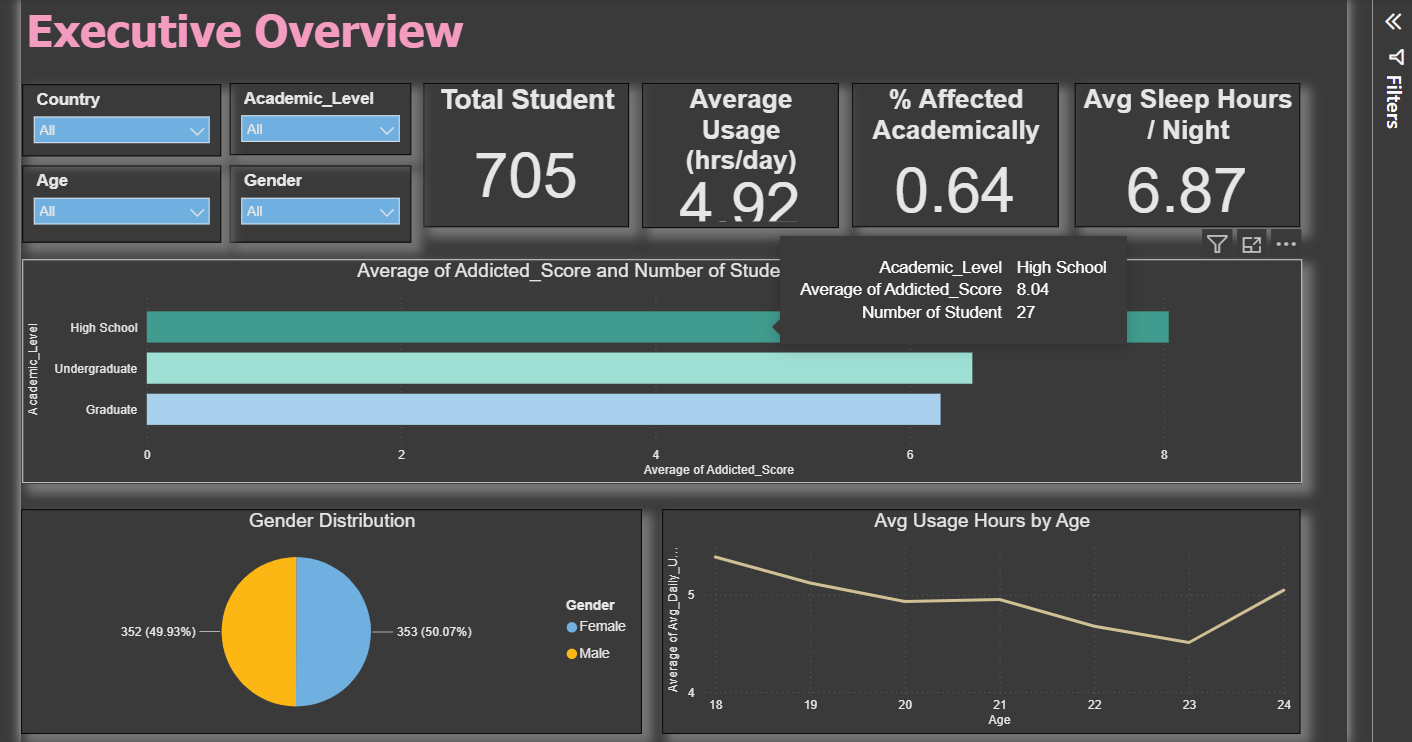

The dashboard page shown, as its layout file describes it:
{"tool":"powerbi","page":{"name":"Executive Overview","canvas":[1280,720],"ordinal":0},"visuals":[{"type":"card","title":"Total Student","fields":{"Values":["CountNonNull(Student Details.Student_ID)"]},"box":[388.9,81.9,198.1,139.4],"z":0},{"type":"card","title":"Average Usage (hrs/day)","fields":{"Values":["Platform Details.Avg usage hour"]},"box":[599.7,82.3,189.4,140],"z":1000},{"type":"card","title":"% Affected Academically","fields":{"Values":["Platform Details.•% Affected Academically"]},"box":[802.2,81.9,199.3,139.4],"z":2000},{"type":"card","title":"Avg Sleep Hours / Night","fields":{"Values":["Student Details.Avg sleep hour"]},"box":[1017.4,81.9,217.7,139.4],"z":3000},{"type":"clusteredBarChart","fields":{"Category":["Student Details.Academic_Level"],"Y":["Avg(Student Details.Addicted_Score)"]},"box":[1.2,251.9,1235.1,216.4],"z":4000},{"type":"lineChart","title":"Avg Usage Hours by Age","fields":{"Category":["Student Details.Age"],"Y":["Avg(Platform Details.Avg_Daily_Usage_Hours)"]},"box":[618.8,494,616.3,216.4],"z":5000},{"type":"pieChart","title":"Gender Distribution","fields":{"Y":["CountNonNull(Student Details.Student_ID)"],"Category":["Student Details.Gender"]},"box":[0,494,599.2,216.4],"z":6000},{"type":"slicer","fields":{"Values":["Student Details.Country"]},"box":[1.2,83.2,192,69.7],"z":7000},{"type":"slicer","fields":{"Values":["Student Details.Academic_Level"]},"box":[201.8,81.9,174.9,69.7],"z":8000},{"type":"slicer","fields":{"Values":["Student Details.Gender"]},"box":[201.8,161.4,174.9,74.6],"z":9000},{"type":"slicer","fields":{"Values":["Student Details.Age"]},"box":[1.2,161.4,192,74.6],"z":10000},{"type":"textbox","box":[0,0,1236.3,61.1],"z":11000}]}

Visuals, with their boxes on the page's 1280x720 design canvas (x1, y1, x2, y2). These are canvas units, not pixel positions in the 1412x742 screenshot, which may show the page scaled, cropped or inside an application window:
"Total Student" card: (389, 82, 587, 221)
"Average Usage (hrs/day)" card: (600, 82, 789, 222)
"% Affected Academically" card: (802, 82, 1002, 221)
"Avg Sleep Hours / Night" card: (1017, 82, 1235, 221)
clusteredBarChart - Student Details.Academic_Level x Avg(Student Details.Addicted_Score): (1, 252, 1236, 468)
"Avg Usage Hours by Age" lineChart: (619, 494, 1235, 710)
"Gender Distribution" pieChart: (0, 494, 599, 710)
slicer - Student Details.Country: (1, 83, 193, 153)
slicer - Student Details.Academic_Level: (202, 82, 377, 152)
slicer - Student Details.Gender: (202, 161, 377, 236)
slicer - Student Details.Age: (1, 161, 193, 236)
textbox: (0, 0, 1236, 61)
